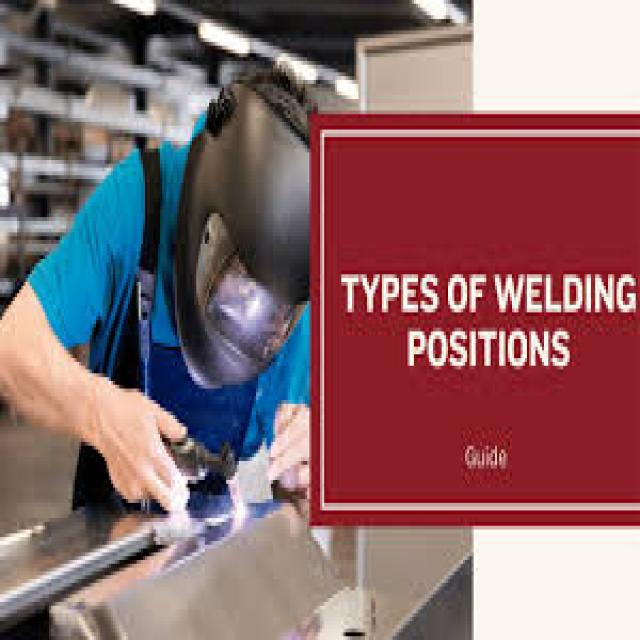welding: (234, 495, 247, 515)
